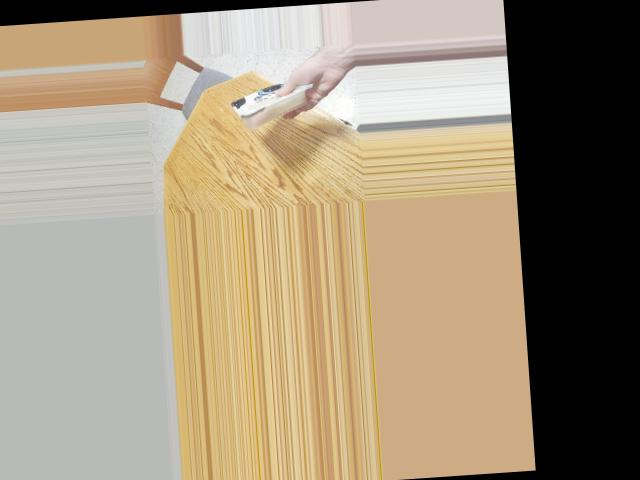cheese: (232, 67, 308, 133)
